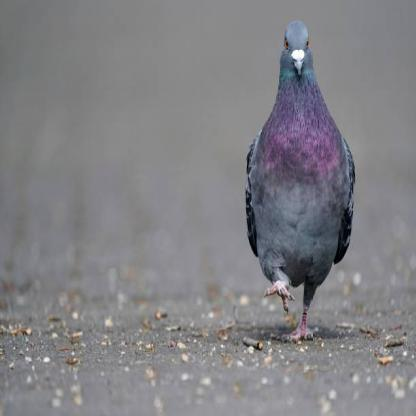Flying Rat: (245, 20, 359, 341)
